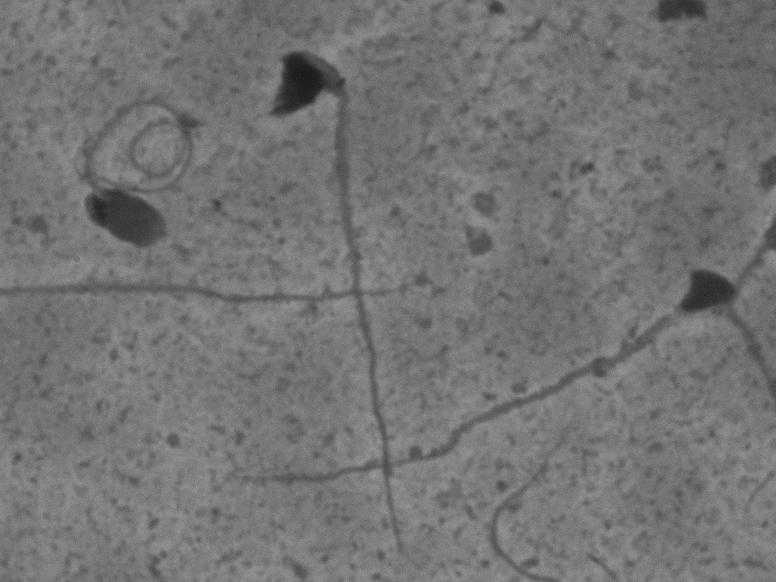Abnormal: (231, 15, 418, 520), (504, 237, 752, 432), (59, 69, 207, 264)
